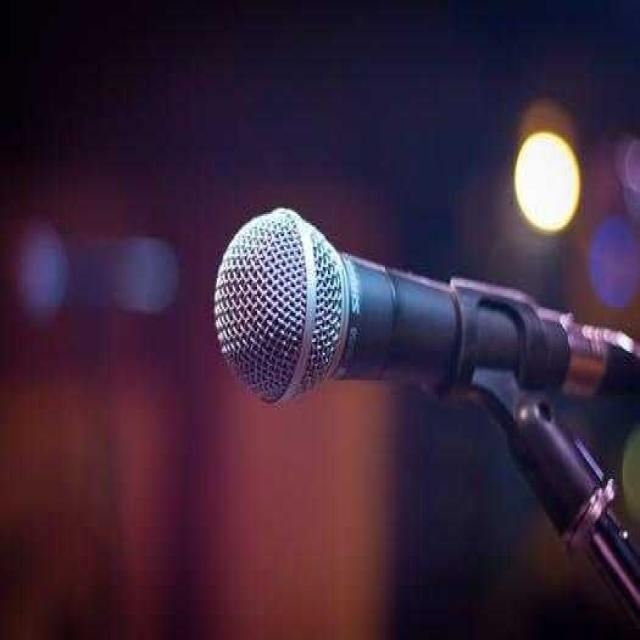microphone: (217, 210, 627, 410)
